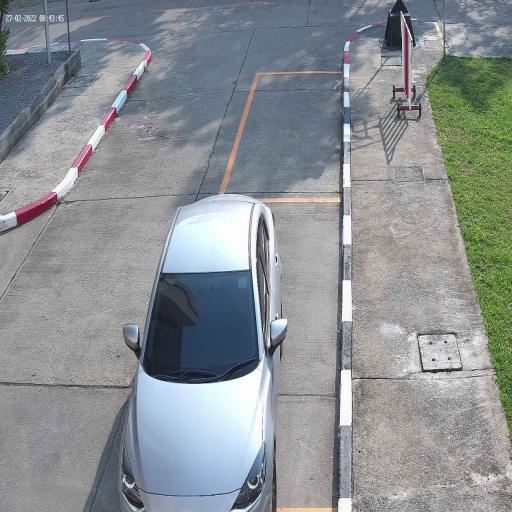car: (117, 192, 283, 512)
